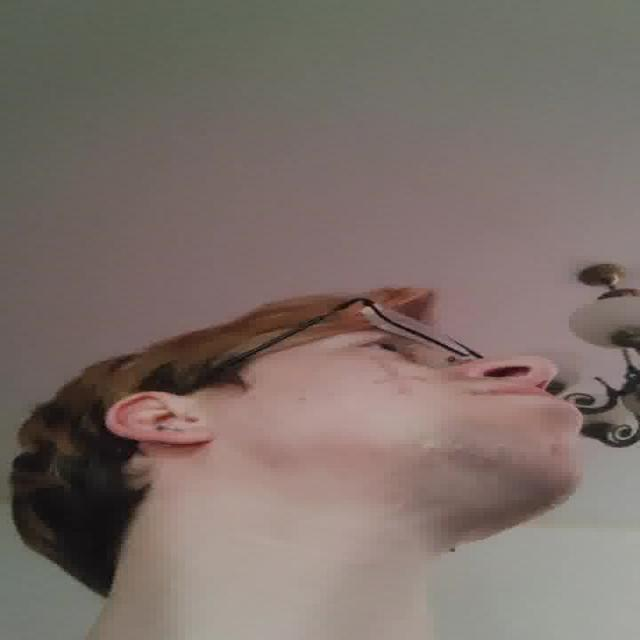earlobe: (144, 428, 214, 447)
eye: (346, 334, 421, 360)
nose: (479, 368, 555, 392)
wholeear: (105, 390, 215, 447)
